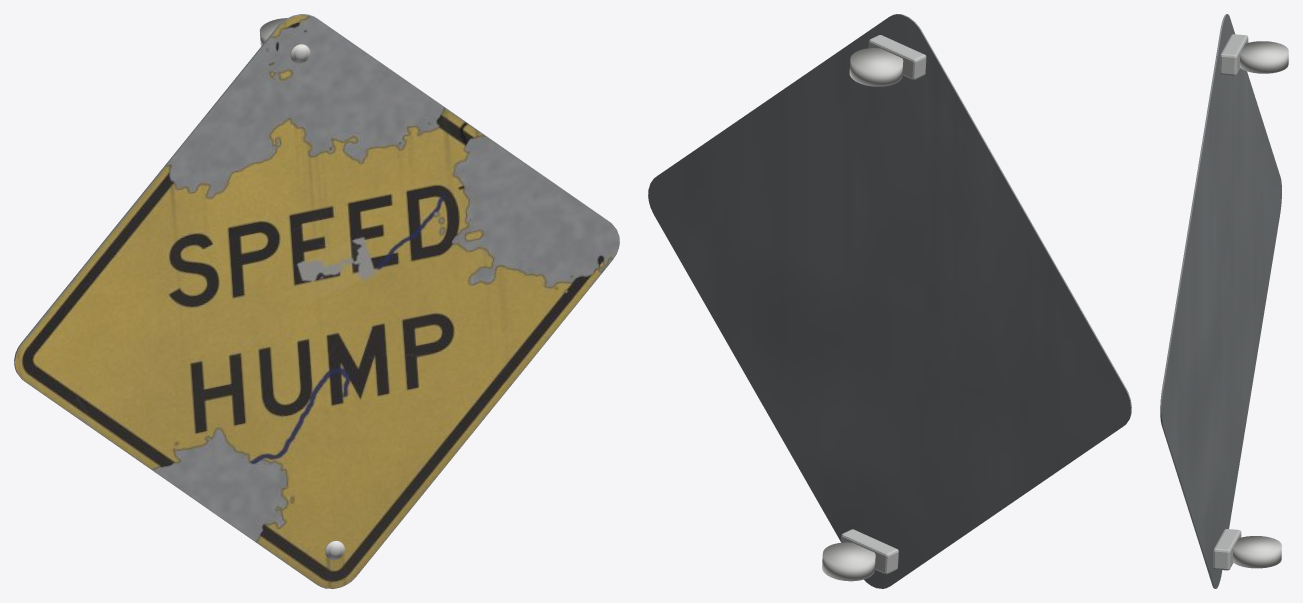
Rendered from warning-v1-battered.glb.
3 views of the same model, side by side, from view 1: azimuth 30°, elevation 25°; view 2: azimuth 150°, elevation 25°; view 3: azimuth 270°, elevation 25° (orthographic). The views are drawn at different scales.
Parts seen in each view (by area): view 1: warning-v1-battered; view 2: warning-v1-battered; view 3: warning-v1-battered.
Boxes of the visible parts, x1,y1,x2,y2 form: warning-v1-battered: [14, 14, 619, 588]; warning-v1-battered: [648, 14, 1131, 588]; warning-v1-battered: [1160, 14, 1288, 588].
Size of the model in its own units: 0.7464 by 0.7609 by 0.1597.
Materials: 1 (1 with a texture image).
